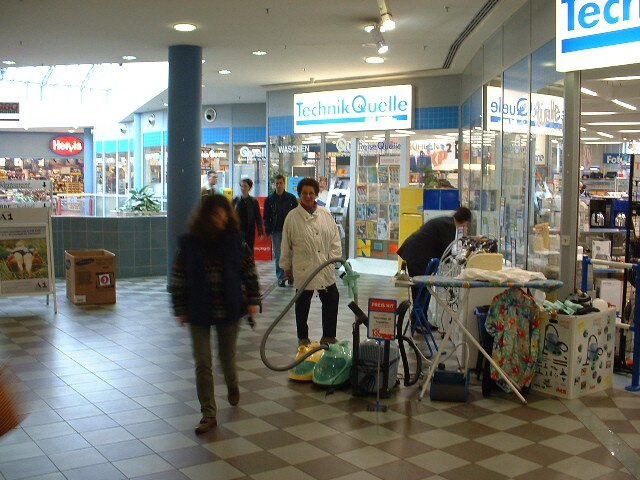person: (168, 186, 268, 437), (282, 176, 351, 353), (399, 204, 471, 334)
